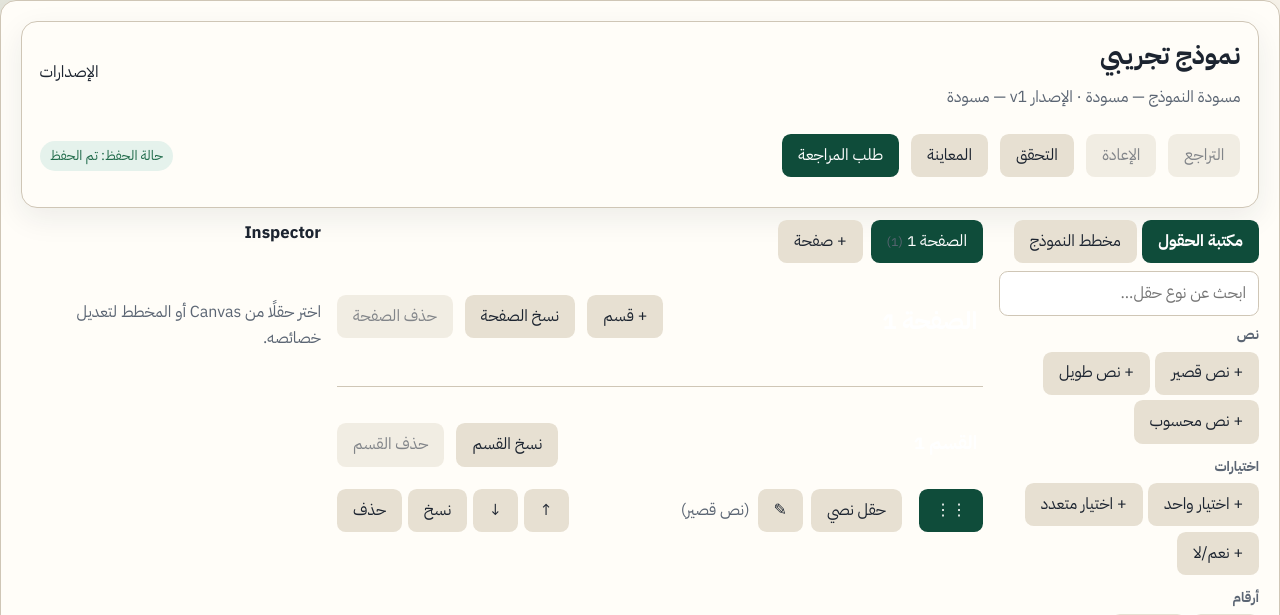
FormDesignerStudioPage — existing form › shows the three non-destructive conflict actions on a 409 autosave response
The width and height of the screenshot is (1280, 615).
Click the button "حقل نصي" at [856, 511], box [811,489,902,532]
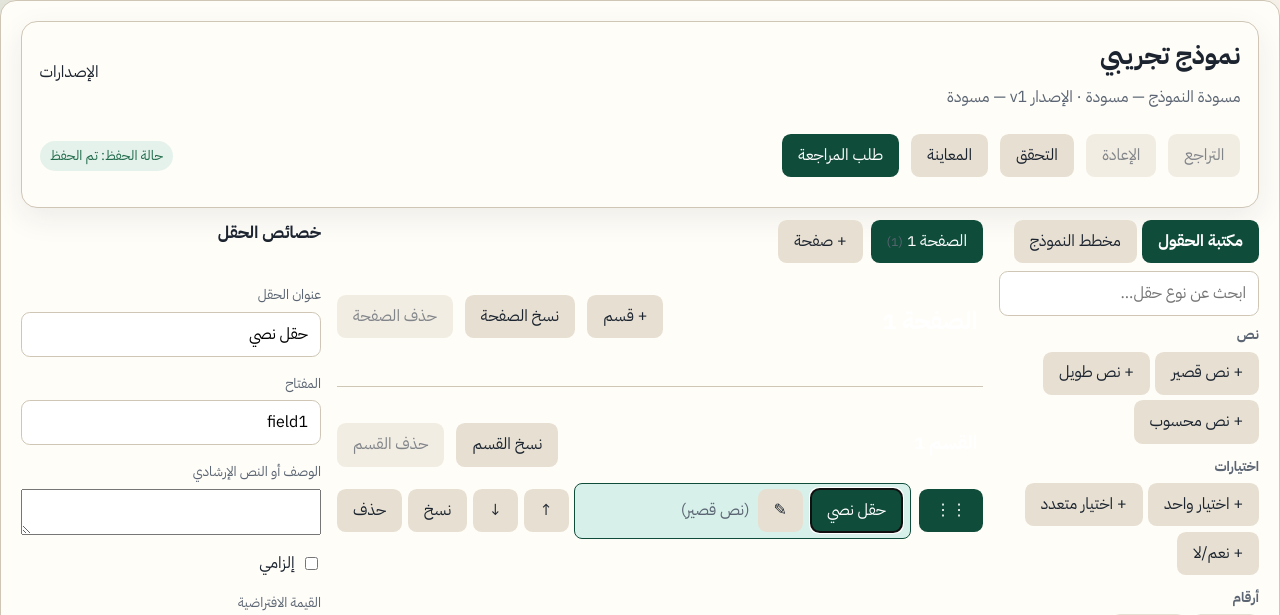
Replace the text in the field labelled "عنوان الحقل" with "تسمية أخرى" at [171, 334], box [21,312,321,357]
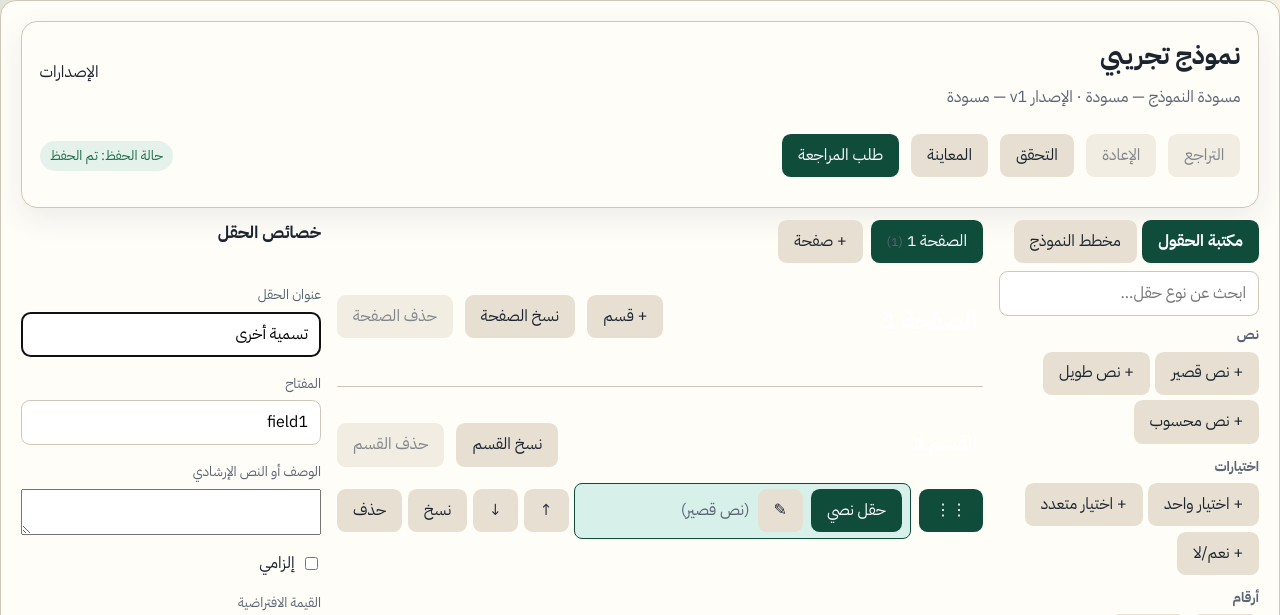
Press Tab
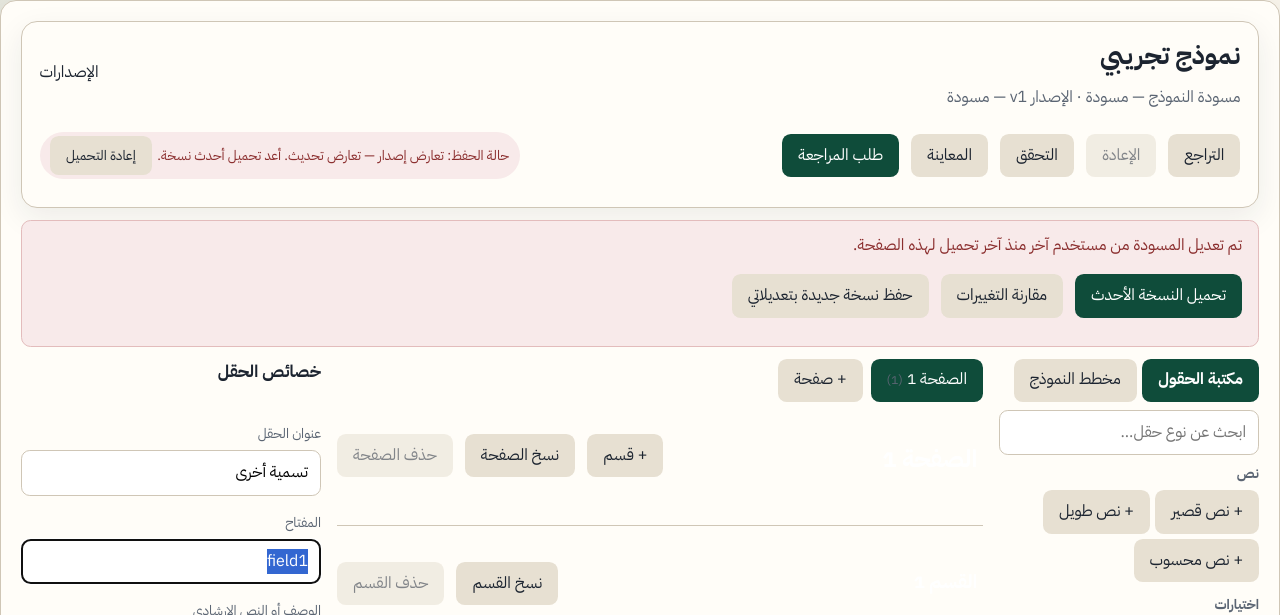
Now the text "تم تعديل المسودة من مستخدم آخر منذ آخر تحميل لهذه الصفحة." is shown, box [853,233,1242,257]
Now the button "تحميل النسخة الأحدث" is shown, box [1075,274,1242,318]
Now the button "مقارنة التغييرات" is shown, box [940,274,1063,318]
